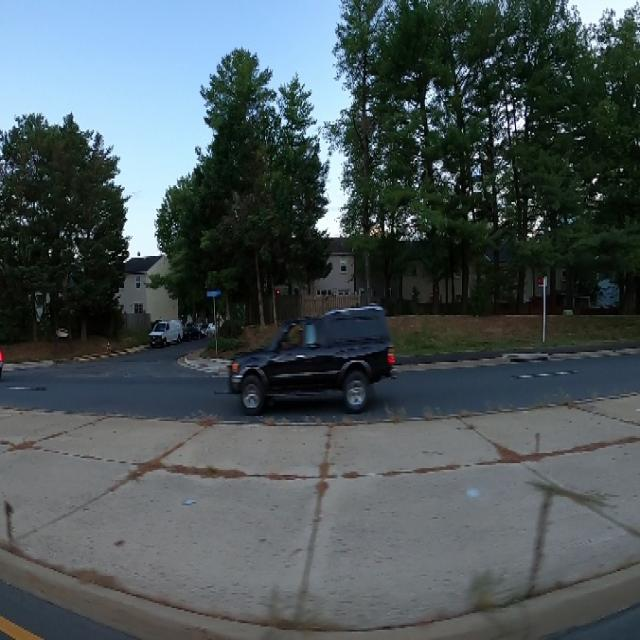car: (220, 293, 401, 424), (147, 312, 186, 352)
